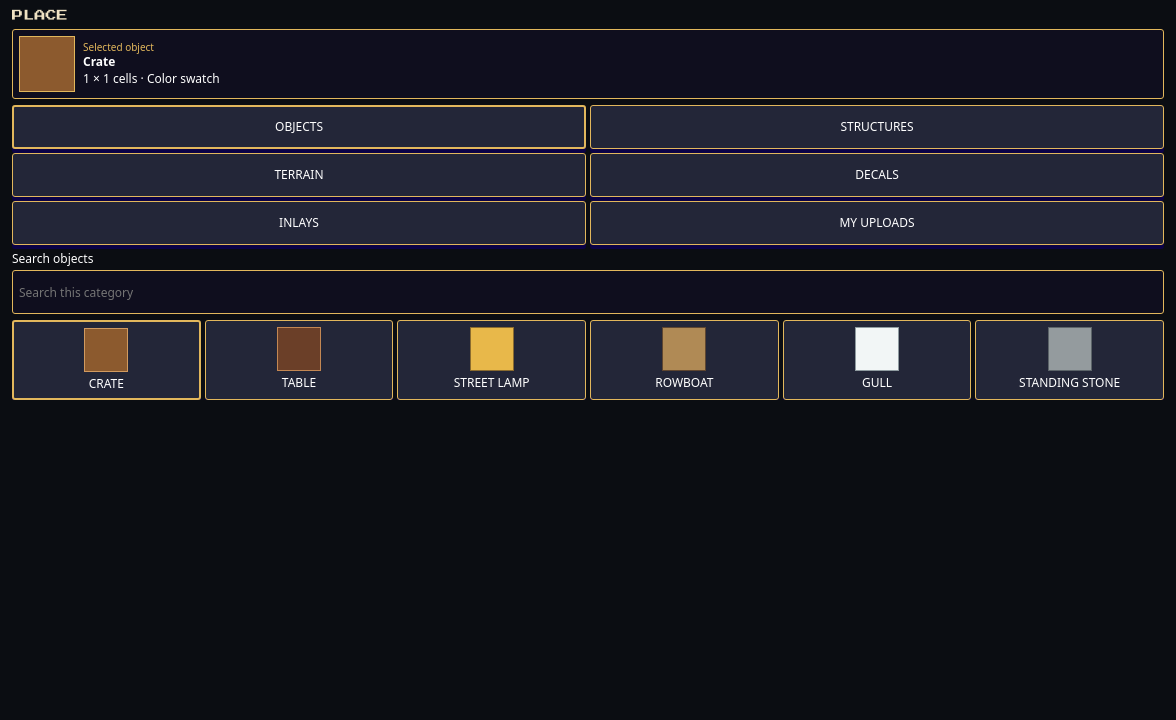
MobileAssetPicker — My uploads › refuses a URL that is not one of this table's assets, with a reason
Click the button "My uploads": (877, 223) [590, 201, 1164, 245]
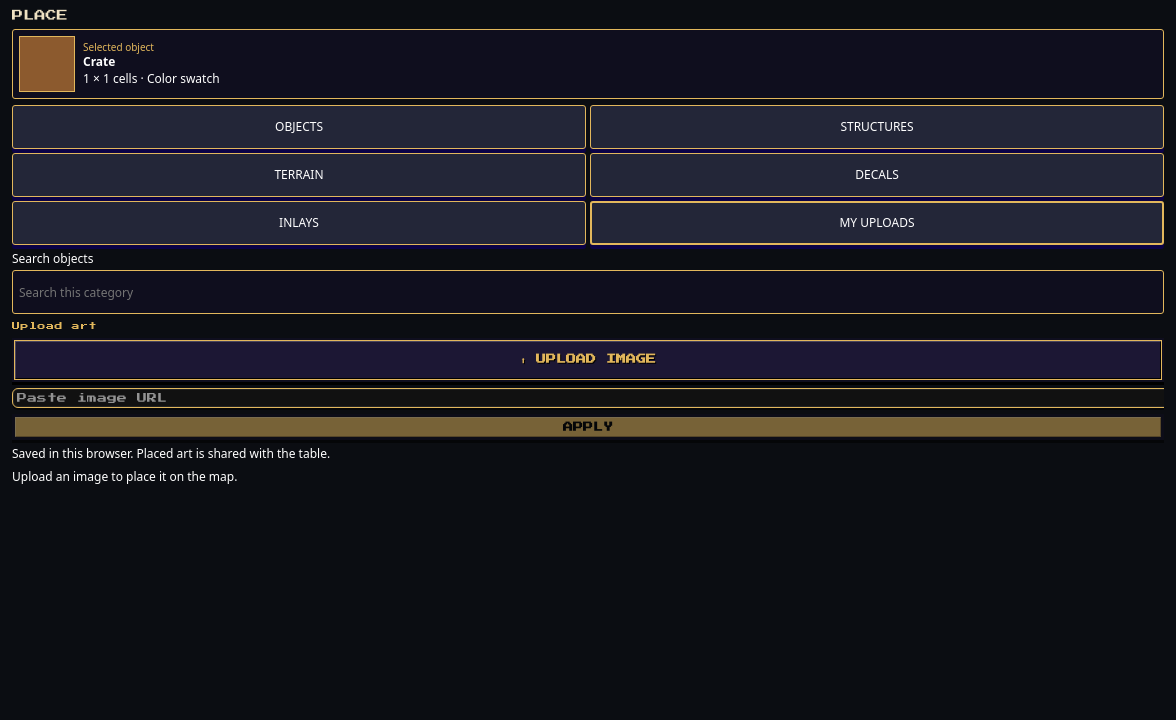
In the field labelled "Upload art": (588, 398) [12, 388, 1164, 408], type "https://example.com/cat.png"
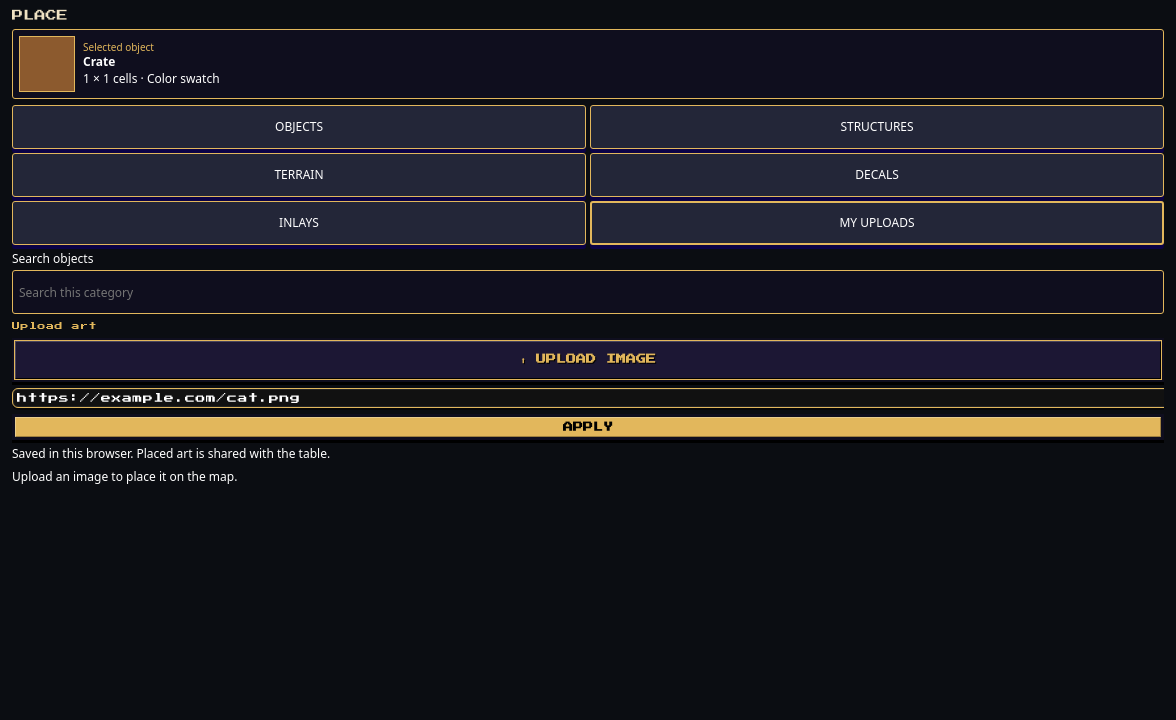
Press Enter in the field labelled "Upload art", box [12, 388, 1164, 408]
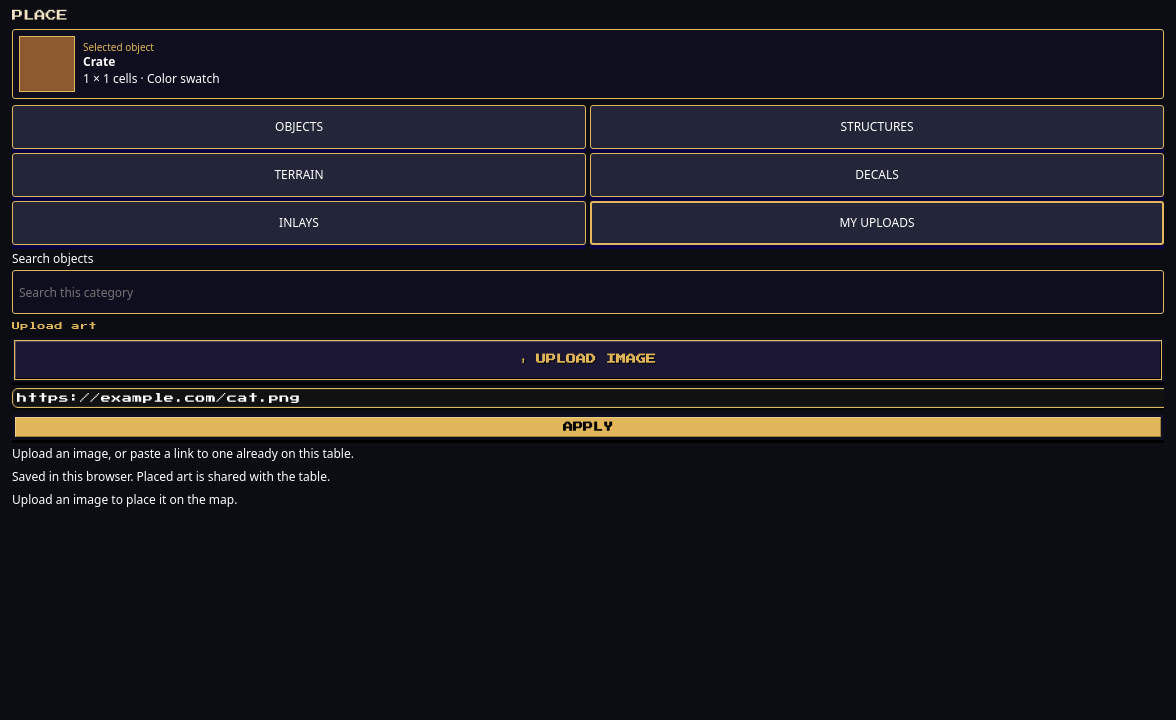
Now the message "Upload an image, or paste a link to one already on this table." is shown, box [12, 445, 354, 462]
